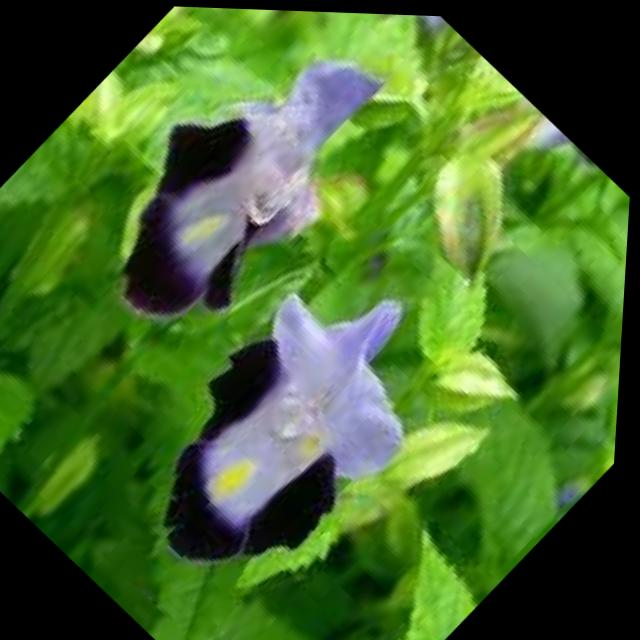Flower: (112, 238, 478, 609), (73, 3, 436, 361)
